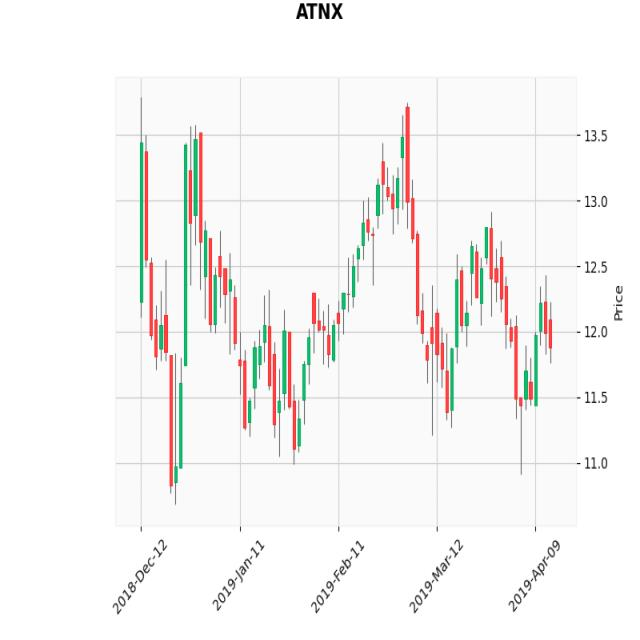Double-Bottom: (224, 280, 323, 456)
